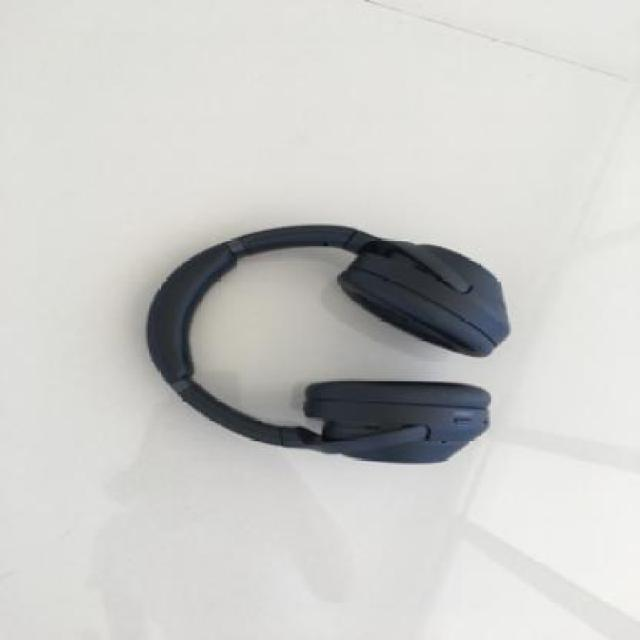earphone: (133, 113, 532, 495)
